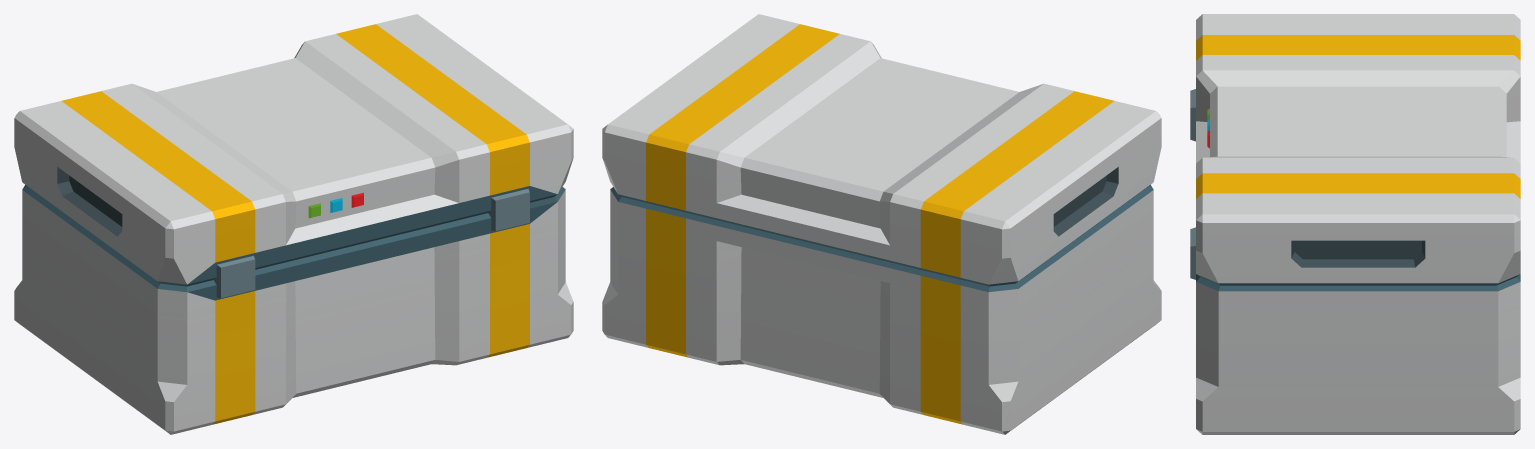
File: Crate_004.glb
3 views of the same model, side by side, from view 1: azimuth 30°, elevation 25°; view 2: azimuth 150°, elevation 25°; view 3: azimuth 270°, elevation 25° (orthographic). The views are drawn at different scales.
Visible parts, largest first — view 1: Crate_004; view 2: Crate_004; view 3: Crate_004.
Part boxes in pixels (left/top/right/bottom): Crate_004: left=14, top=14, right=573, bottom=434; Crate_004: left=602, top=14, right=1161, bottom=434; Crate_004: left=1190, top=14, right=1520, bottom=434.
Size of the model in its own units: 0.9 by 0.45 by 0.6107.
Materials: 2 (2 with a texture image).
